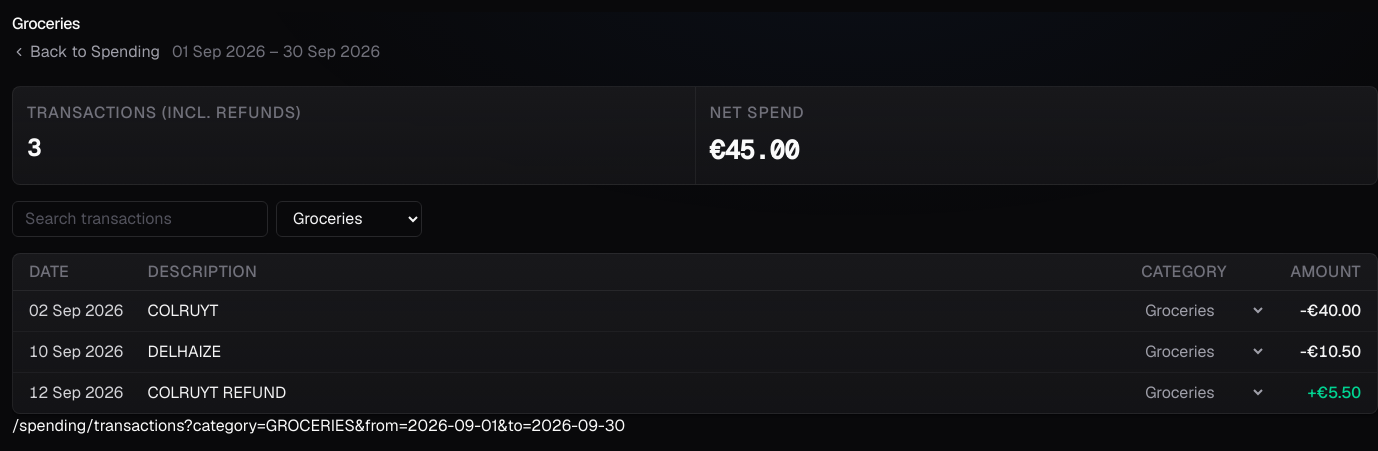
it: SpendingTransactions › switching the category select updates the URL and keeps the period
The image size is (1378, 451).
Select "Dining" in the dropdown named "Filter by category" at (349, 219), box x1=276 y1=201 x2=422 y2=237
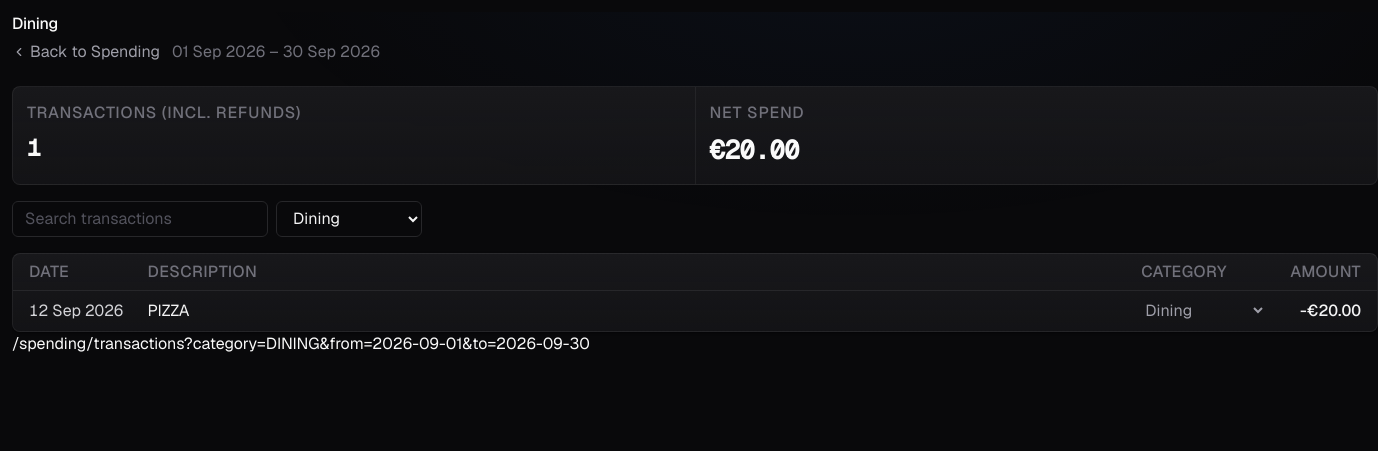
Expected: the text with test id "location" shows "from=2026-09-01", x1=12 y1=333 x2=590 y2=354
Expected: the text with test id "location" shows "category=DINING", x1=12 y1=333 x2=590 y2=354
Expected: the heading "Dining" is shown, x1=12 y1=13 x2=58 y2=34
